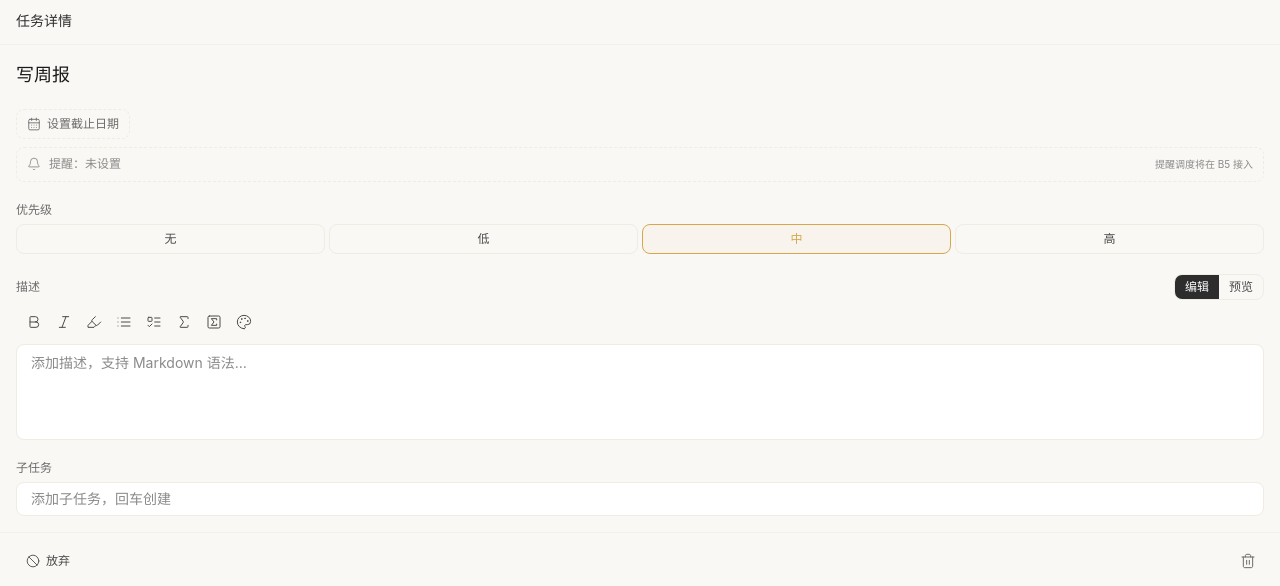
Scenario: TaskDetail · 描述（D6 Markdown 双态） › 无描述默认编辑态；输入后点预览 → blur 保存并渲染 Markdown
Type "**加粗**正文" into the text box named "任务描述".
click(640, 392); type("**加粗**正文")  # box [16,344,1264,440]
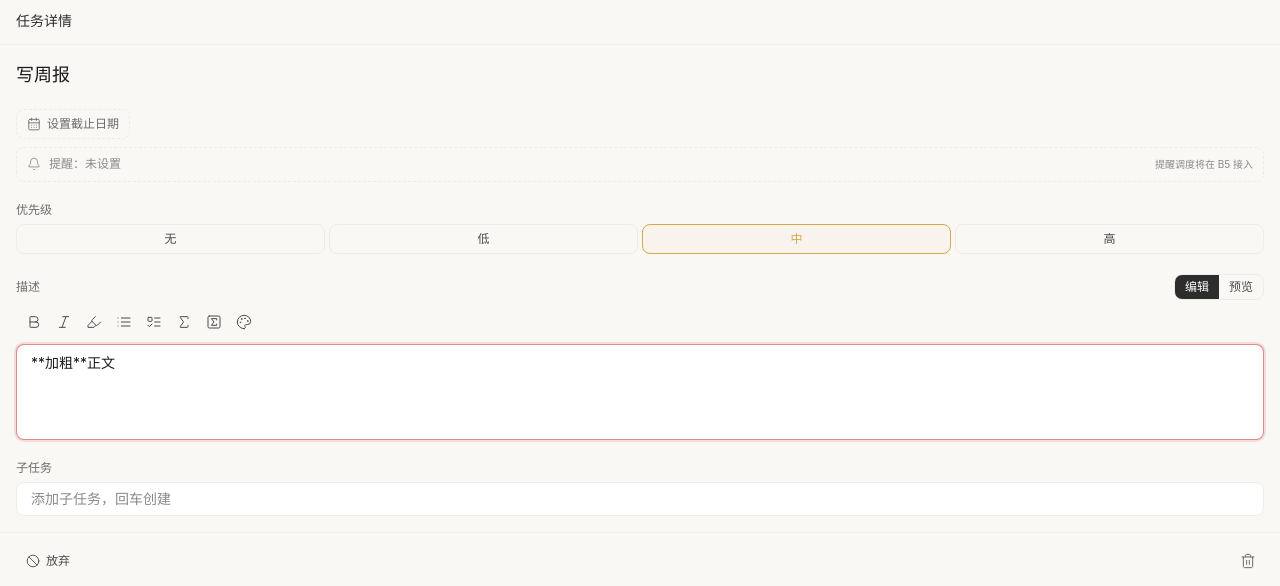
Click the button "预览".
click(1241, 286)  # box [1219,274,1263,298]
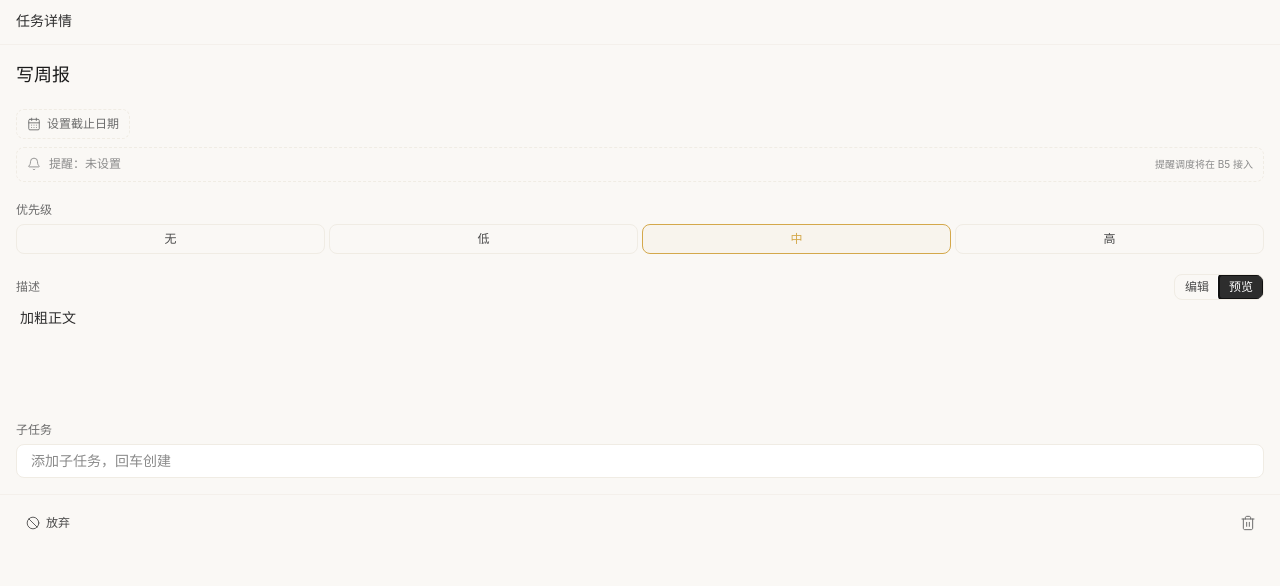
Now the text "加粗" is shown, box [20,308,48,326]
Now the text "正文" is shown, box [48,308,76,326]
